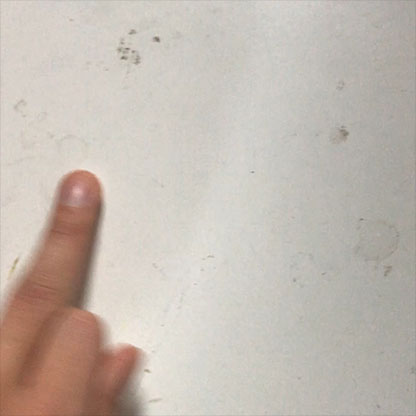fingertip: (46, 166, 109, 218)
